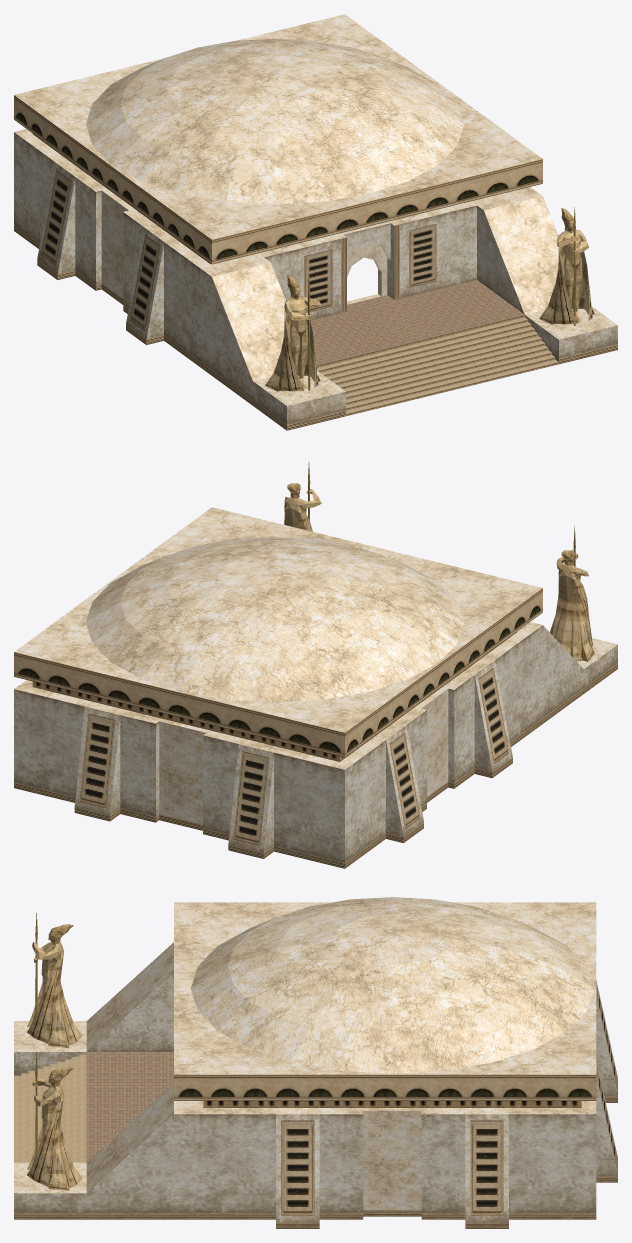
File: mun_tato_guild_combat_s01_r0_exterior_mesh_l1.fbx
3 renders of one model, top to bottom at view 1: azimuth 30°, elevation 25°; view 2: azimuth 150°, elevation 25°; view 3: azimuth 270°, elevation 25°, orthographic. The views are drawn at different scales.
Parts seen in each view (by area): view 1: mesh_node; view 2: mesh_node; view 3: mesh_node.
Part boxes in pixels (<box>): mesh_node: <box>14,14,617,430</box>; mesh_node: <box>14,462,617,868</box>; mesh_node: <box>14,897,617,1228</box>.
Size of the model in its own units: 38.75 by 18.75 by 51.88.
